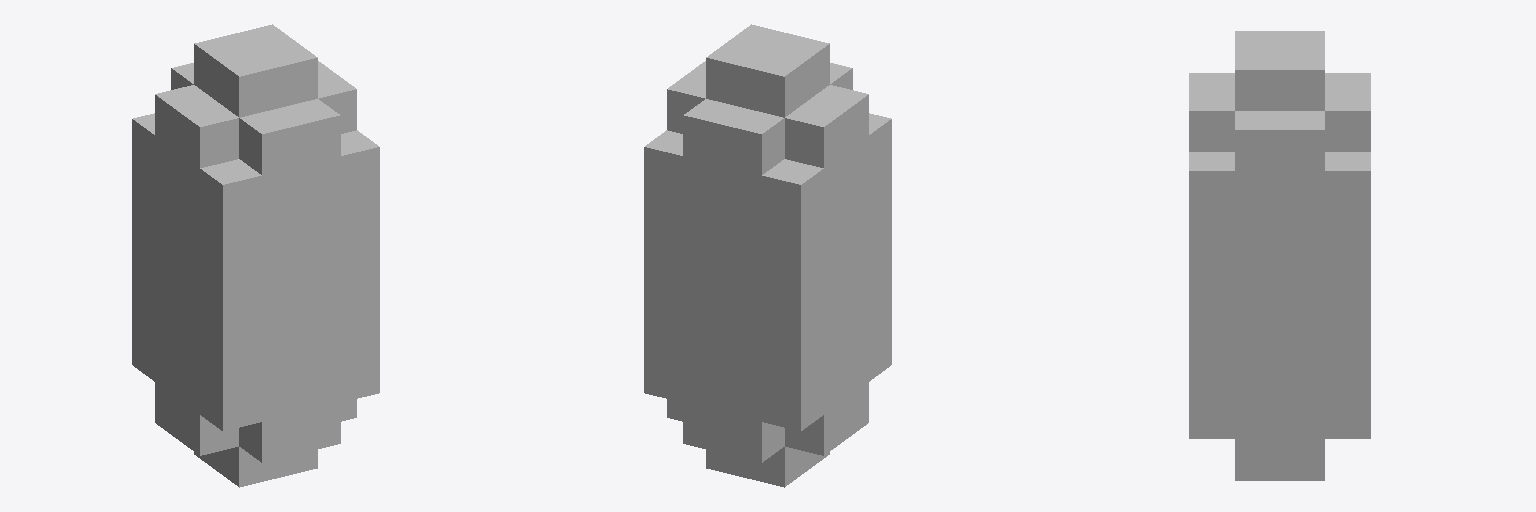
The model's file is earthgem.obj.
3 renders of one model, left to right at view 1: azimuth 30°, elevation 25°; view 2: azimuth 150°, elevation 25°; view 3: azimuth 270°, elevation 25°, orthographic.
Size of the model in its own units: 4 by 10 by 4.